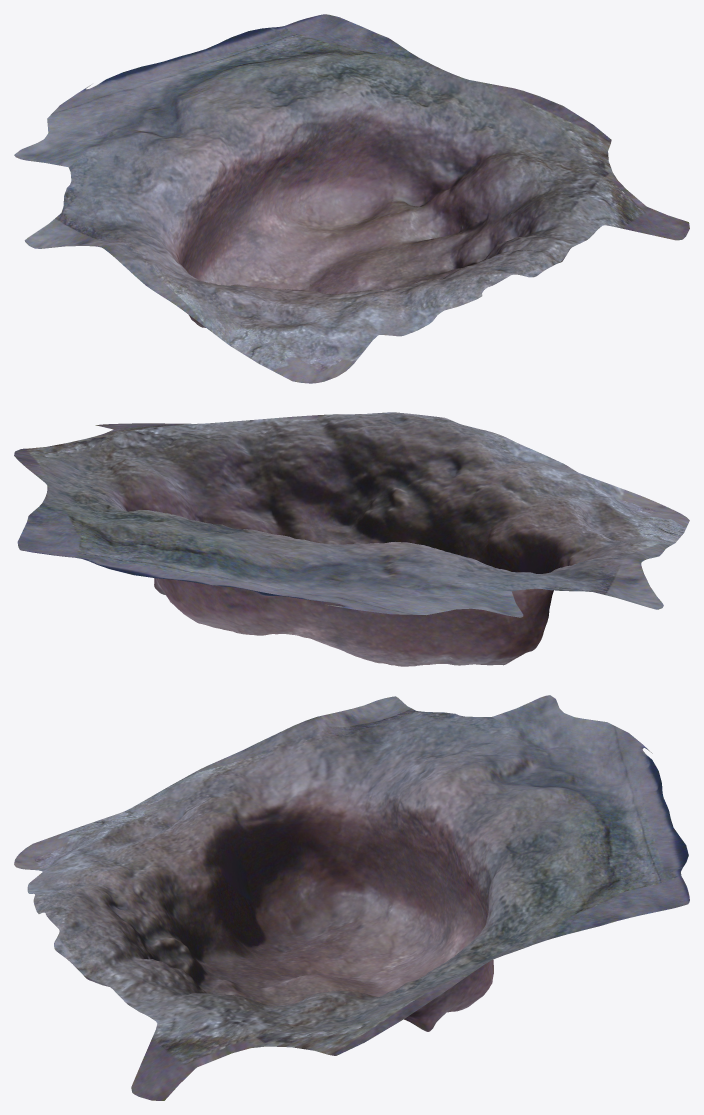
Rendered from sauropod_footprint.glb.
3 views of the same model, one above another, from view 1: azimuth 30°, elevation 25°; view 2: azimuth 150°, elevation 25°; view 3: azimuth 270°, elevation 25° (orthographic). The views are drawn at different scales.
Parts seen in each view (by area): view 1: Object_2; view 2: Object_2; view 3: Object_2.
Boxes of the visible parts, left/top/right/bottom form: Object_2: left=14, top=14, right=689, bottom=383; Object_2: left=14, top=412, right=689, bottom=666; Object_2: left=14, top=695, right=689, bottom=1100.
Size of the model in its own units: 4.31 by 1.09 by 3.61.
Materials: 1 (1 with a texture image).
